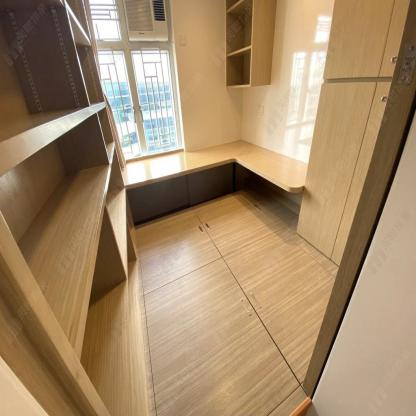AC: (123, 0, 168, 41)
Closet: (296, 0, 411, 268)
Desk: (123, 140, 308, 191)
